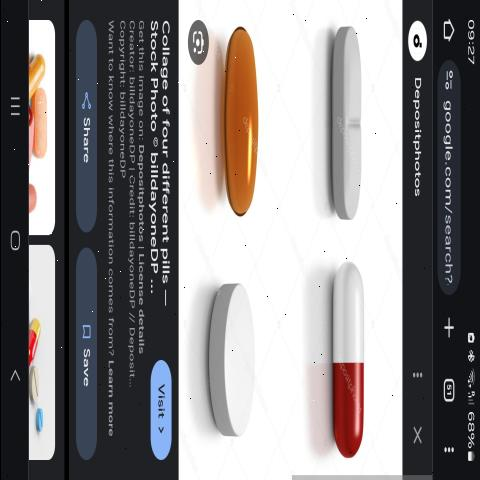Pill: (308, 20, 374, 244), (210, 16, 270, 252), (196, 278, 268, 446), (317, 264, 370, 462)
